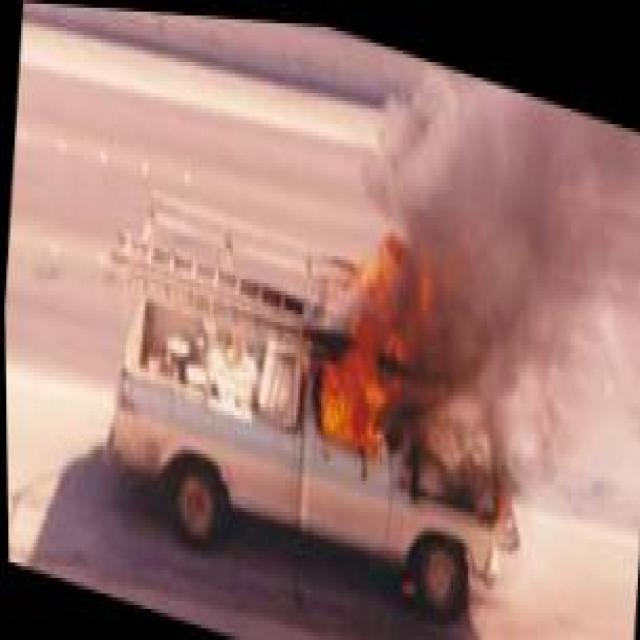Fire: (306, 190, 489, 489)
Smoke: (348, 27, 638, 307), (478, 244, 638, 536)
